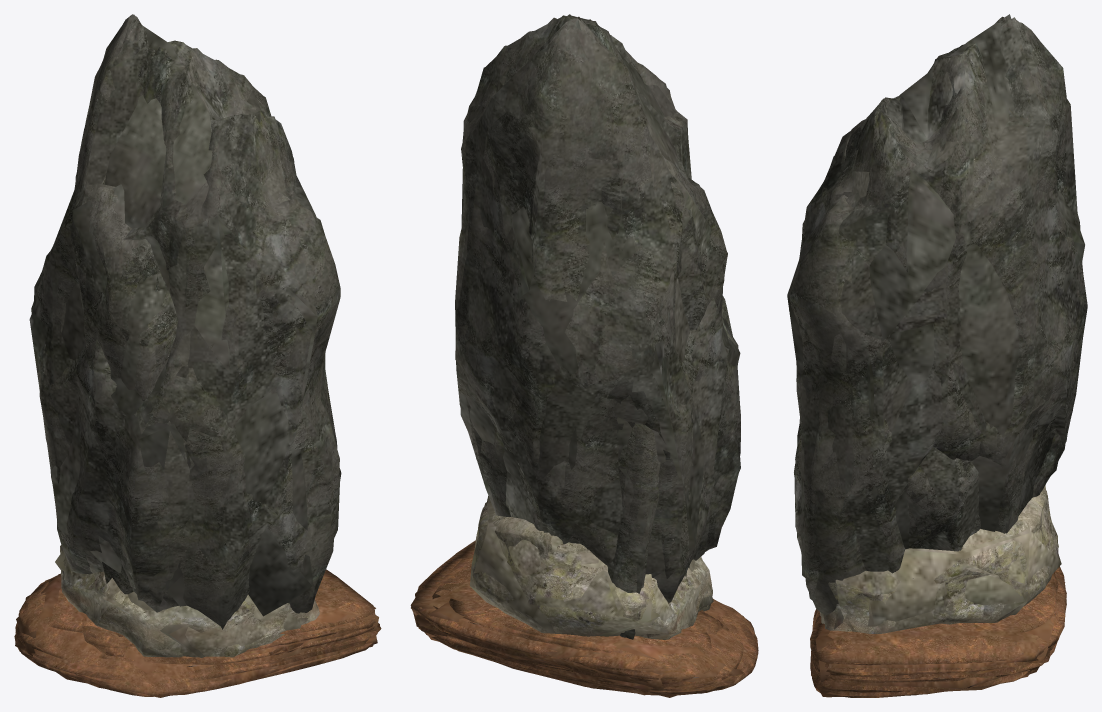
File: rocks.glb
3 views of the same model, side by side, from view 1: azimuth 30°, elevation 25°; view 2: azimuth 150°, elevation 25°; view 3: azimuth 270°, elevation 25° (orthographic). The views are drawn at different scales.
Parts seen in each view (by area): view 1: outcrop3-0, outcrop3-2, outcrop3-1, outcrop3-3, slab3-0, slab3-1, outcrop2-0, slab3-2, outcrop2-2, boulder3-2, outcrop2-3, outcrop2-1 (+4 smaller); view 2: outcrop3-0, outcrop3-1, outcrop3-2, outcrop3-3, slab3-0, slab3-1, boulder3-2, boulder3-1, boulder3-0, slab3-2, outcrop2-2, outcrop2-0 (+4 smaller); view 3: outcrop3-0, outcrop3-2, outcrop3-1, outcrop3-3, slab3-0, boulder3-3, slab3-1, slab3-2, boulder3-0, boulder3-2, boulder3-1, outcrop2-2 (+4 smaller).
Boxes of the visible parts, <box> form: outcrop3-0: <box>33,15,341,629</box>; outcrop3-2: <box>31,14,333,625</box>; outcrop3-1: <box>36,14,339,618</box>; outcrop3-3: <box>29,17,317,616</box>; slab3-0: <box>14,569,381,696</box>; slab3-1: <box>15,572,379,696</box>; outcrop2-0: <box>72,184,177,593</box>; slab3-2: <box>16,584,377,695</box>; outcrop2-2: <box>70,183,176,569</box>; boulder3-2: <box>62,560,318,657</box>; outcrop2-3: <box>72,184,166,389</box>; outcrop2-1: <box>70,184,178,594</box>; outcrop3-0: <box>455,14,740,602</box>; outcrop3-1: <box>455,16,740,598</box>; outcrop3-2: <box>455,19,740,577</box>; outcrop3-3: <box>460,16,740,554</box>; slab3-0: <box>413,541,758,695</box>; slab3-1: <box>411,540,758,695</box>; boulder3-2: <box>470,526,713,639</box>; boulder3-1: <box>473,502,712,639</box>; boulder3-0: <box>472,507,712,639</box>; slab3-2: <box>410,578,756,695</box>; outcrop2-2: <box>607,158,725,639</box>; outcrop2-0: <box>614,160,727,637</box>; outcrop3-0: <box>789,16,1087,615</box>; outcrop3-2: <box>796,17,1083,589</box>; outcrop3-1: <box>790,16,1087,600</box>; outcrop3-3: <box>787,14,1084,577</box>; slab3-0: <box>810,566,1066,697</box>; boulder3-3: <box>821,527,1061,626</box>; slab3-1: <box>811,572,1066,697</box>; slab3-2: <box>812,571,1065,696</box>; boulder3-0: <box>819,489,1058,633</box>; boulder3-2: <box>834,485,1058,633</box>; boulder3-1: <box>820,489,1058,632</box>; outcrop2-2: <box>906,447,980,551</box>.
Size of the model in its own units: 4.61 by 9.05 by 3.99.
36 materials, 36 textured.
